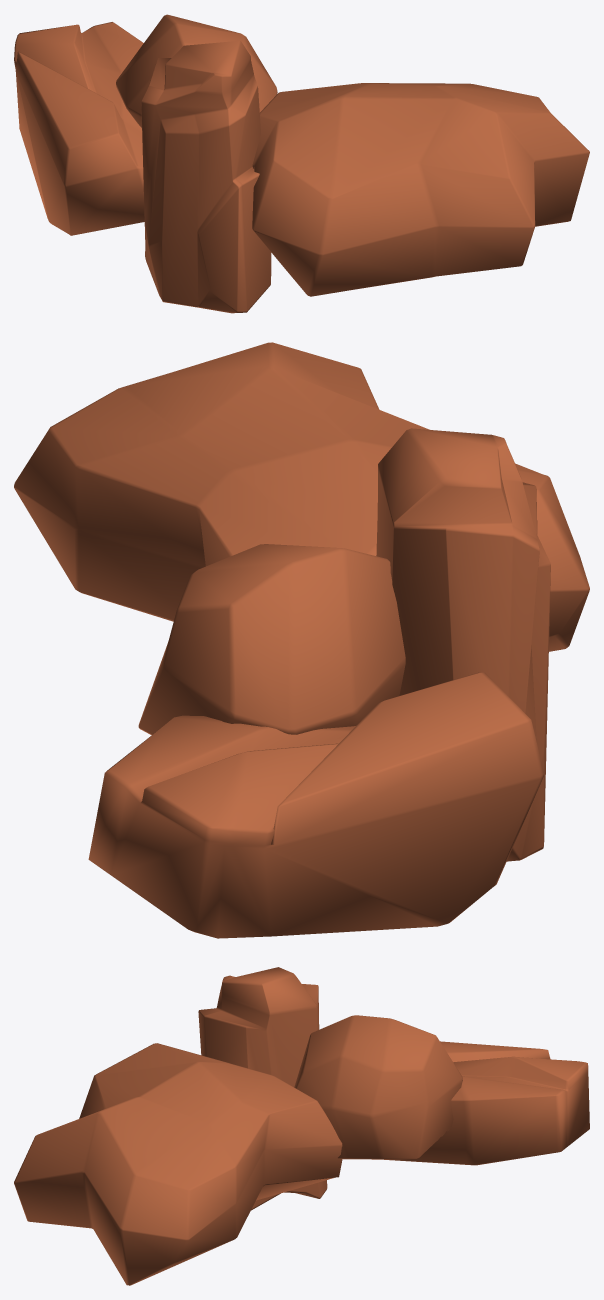
Rendered from Rocas.fbx.
3 renders of one model, top to bottom at view 1: azimuth 30°, elevation 25°; view 2: azimuth 150°, elevation 25°; view 3: azimuth 270°, elevation 25°, orthographic. The views are drawn at different scales.
Parts seen in each view (by area): view 1: Roca 1, Roca 2, Roca 4, Roca 5; view 2: Roca 4, Roca 1, Roca 2, Roca 5; view 3: Roca 1, Roca 5, Roca 4, Roca 2.
Part boxes in pixels (<box>): Roca 1: <box>252,83,589,296</box>; Roca 2: <box>141,41,271,313</box>; Roca 4: <box>14,22,144,235</box>; Roca 5: <box>116,14,277,127</box>; Roca 4: <box>88,672,543,938</box>; Roca 1: <box>14,342,589,651</box>; Roca 2: <box>376,428,550,861</box>; Roca 5: <box>138,544,405,735</box>; Roca 1: <box>14,1043,342,1285</box>; Roca 5: <box>294,1015,462,1159</box>; Roca 4: <box>384,1041,589,1165</box>; Roca 2: <box>198,967,327,1210</box>.
Bounding box in the file's own units: 1163 × 657 × 1493.
